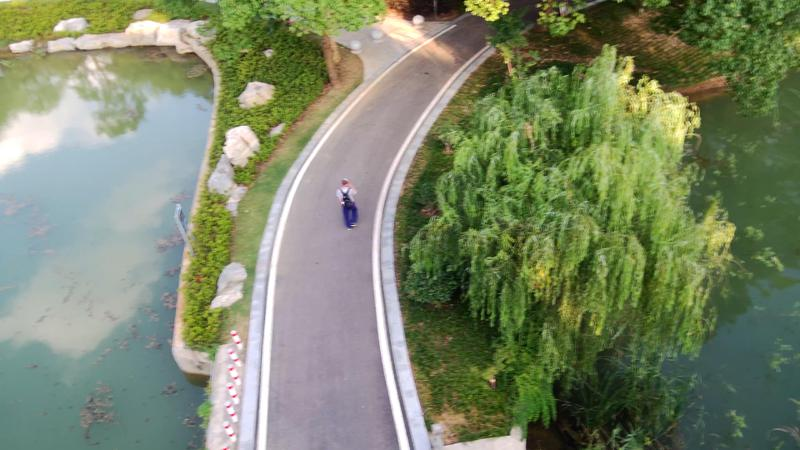passerby: (336, 177, 359, 232)
